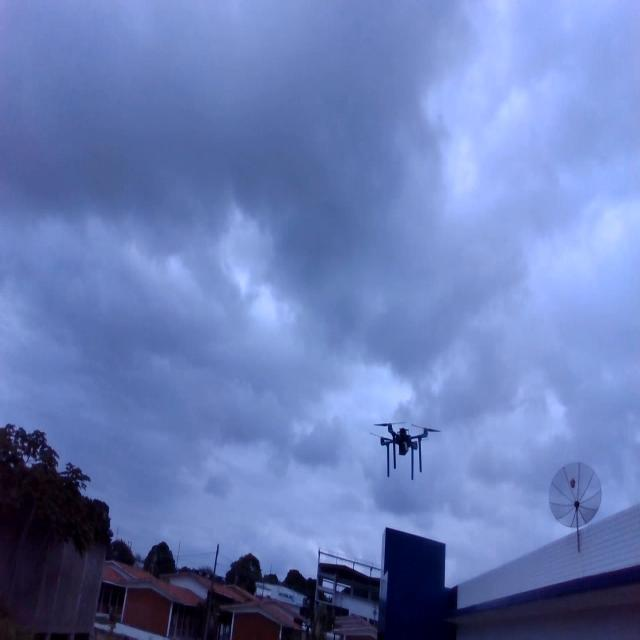-uav-: (359, 411, 448, 494)
